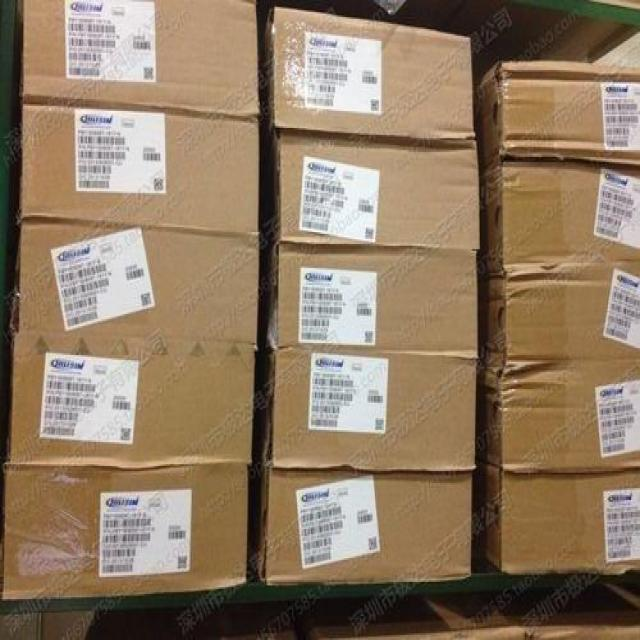box: (3, 319, 261, 472), (0, 458, 253, 605), (14, 104, 259, 240), (6, 215, 259, 338), (14, 0, 257, 118), (266, 5, 477, 136), (252, 467, 478, 588), (264, 242, 494, 358), (269, 130, 488, 251), (263, 358, 484, 477), (477, 452, 640, 579), (477, 348, 640, 469), (479, 55, 640, 168), (481, 159, 640, 273), (485, 268, 640, 365)
